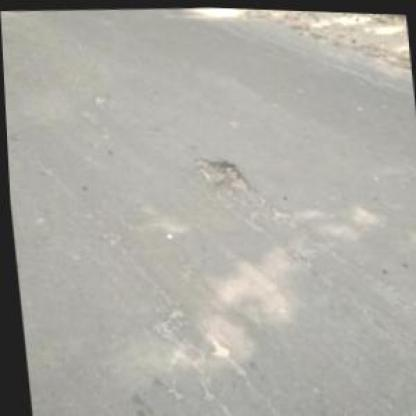pothole: (192, 151, 249, 194), (204, 336, 229, 356), (344, 18, 376, 33), (91, 90, 107, 104), (377, 14, 394, 22), (356, 10, 373, 18)
